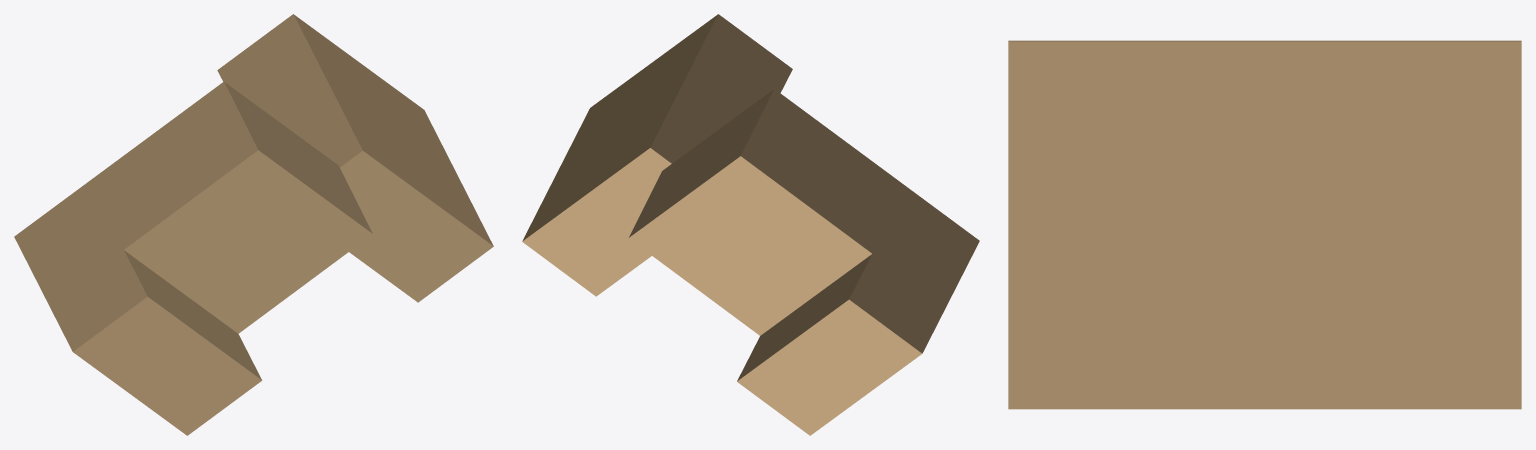
The picture shows the model from 3 angles, left to right: view 1: azimuth 30°, elevation 25°; view 2: azimuth 150°, elevation 25°; view 3: azimuth 270°, elevation 25°; orthographic projection. The views are drawn at different scales.
Parts seen in each view (by area): view 1: 0_1_0_2_0_1_3_3_3; view 2: 0_1_0_2_0_1_3_3_3; view 3: 0_1_0_2_0_1_3_3_3.
Boxes of the visible parts, x1,y1,x2,y2 form: 0_1_0_2_0_1_3_3_3: [14, 14, 493, 435]; 0_1_0_2_0_1_3_3_3: [522, 14, 979, 435]; 0_1_0_2_0_1_3_3_3: [1008, 40, 1521, 409].
Bounding box in the file's own units: 37.1 × 28.51 × 24.
